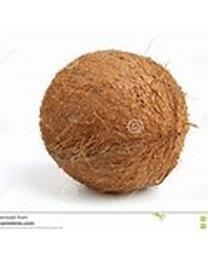coconut: (36, 49, 189, 194)
